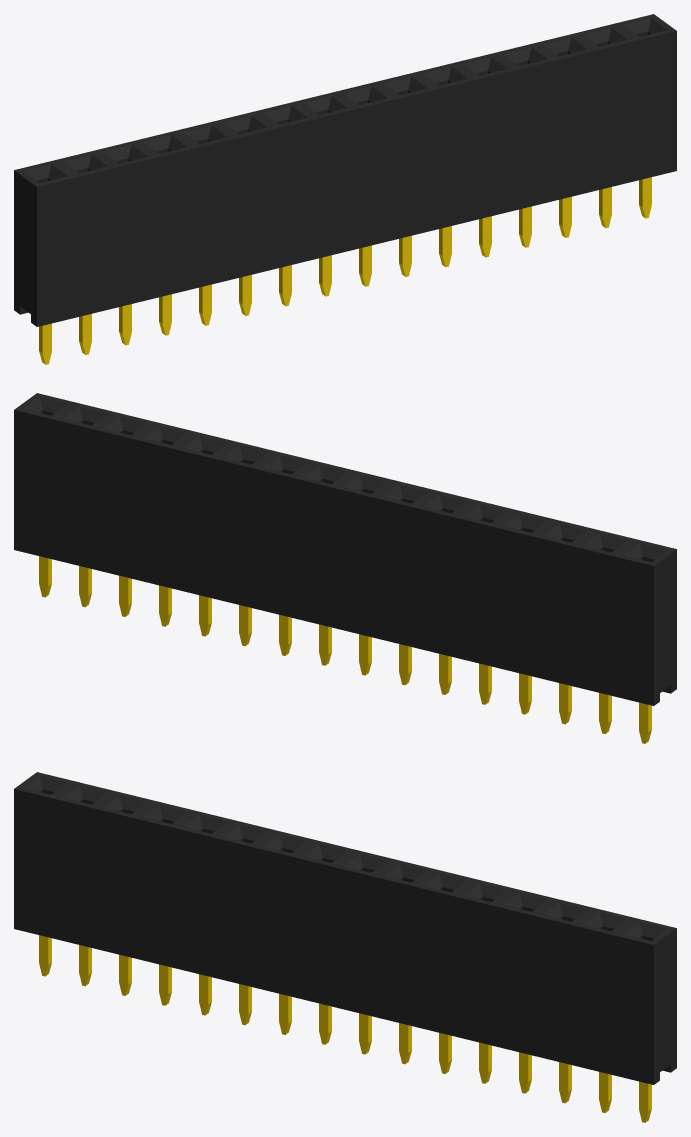
The model's file is PBS16.glb.
3 renders of one model, top to bottom at view 1: azimuth 30°, elevation 25°; view 2: azimuth 150°, elevation 25°; view 3: azimuth 330°, elevation 25°, orthographic.
Visible parts, largest first — view 1: PBS (DS1023 CONNFLY); view 2: PBS (DS1023 CONNFLY); view 3: PBS (DS1023 CONNFLY).
Part boxes in pixels (x1,y1,x2,y2): PBS (DS1023 CONNFLY): (14, 14, 676, 364); PBS (DS1023 CONNFLY): (14, 393, 676, 743); PBS (DS1023 CONNFLY): (14, 772, 676, 1122).
Bounding box in the file's own units: 0.0406 × 0.0115 × 0.00254.
